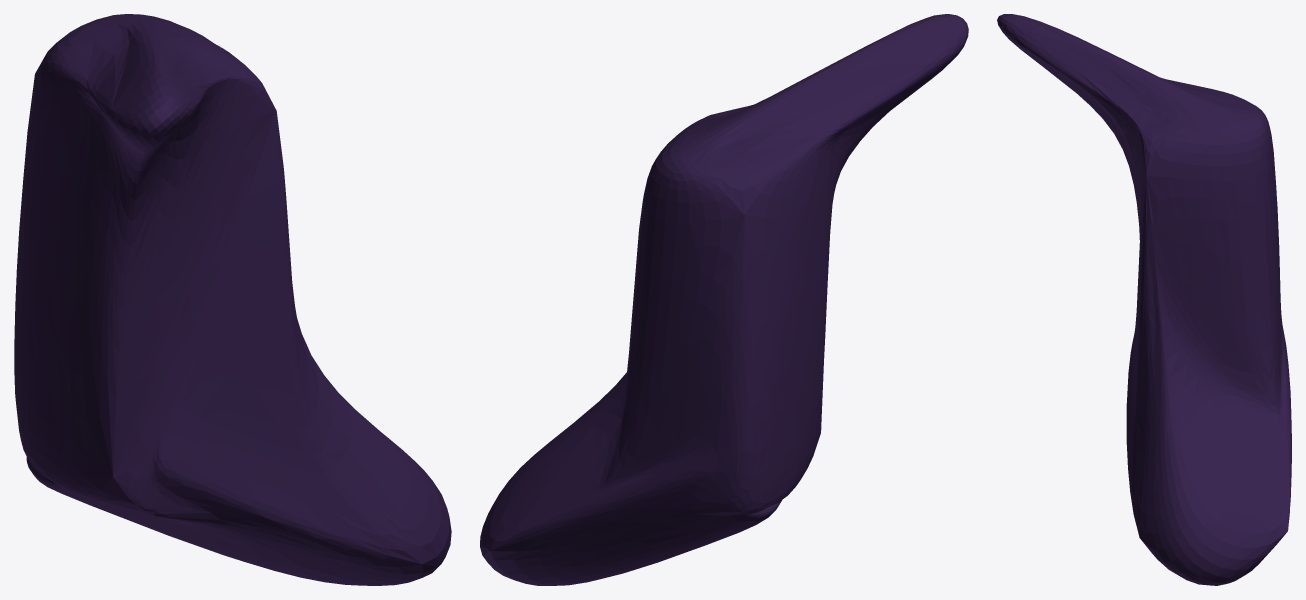
The picture shows the model from 3 angles, left to right: view 1: azimuth 30°, elevation 25°; view 2: azimuth 150°, elevation 25°; view 3: azimuth 270°, elevation 25°; orthographic projection. The views are drawn at different scales.
Visible parts, largest first — view 1: 997_Cube.4023; view 2: 997_Cube.4023; view 3: 997_Cube.4023.
Boxes of the visible parts, <box> form: 997_Cube.4023: <box>14,14,451,585</box>; 997_Cube.4023: <box>480,14,968,585</box>; 997_Cube.4023: <box>997,14,1291,585</box>.
Bounding box in the file's own units: 13.28 × 19.19 × 11.46.
